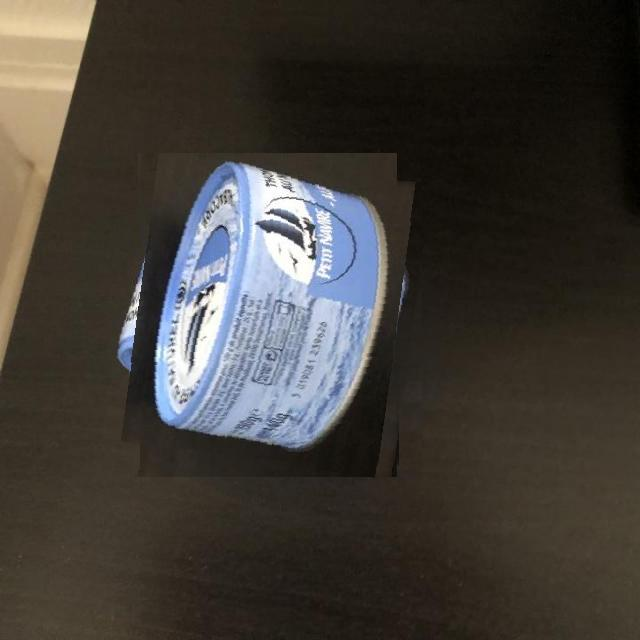recyclable: (112, 160, 422, 471)
